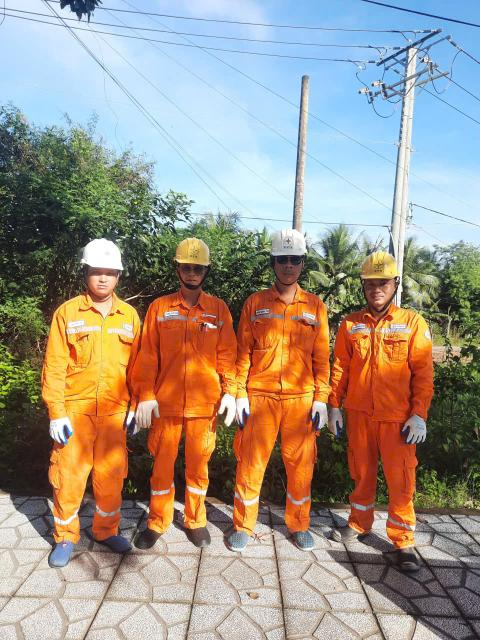gloves: (45, 406, 84, 449), (128, 399, 170, 430), (404, 414, 435, 448), (325, 403, 351, 442), (307, 392, 331, 434), (232, 392, 252, 433), (214, 392, 237, 427), (121, 400, 142, 436)
helmet: (68, 230, 137, 276), (164, 228, 226, 276), (261, 220, 314, 262), (354, 239, 405, 281)
shoes: (325, 506, 371, 549), (44, 529, 86, 575), (131, 513, 165, 558), (390, 536, 427, 576), (173, 517, 218, 549), (90, 527, 132, 560), (288, 518, 317, 551), (227, 522, 254, 555)
